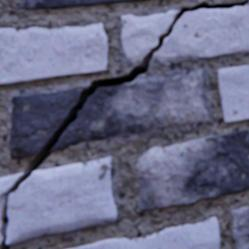brick: (136, 129, 248, 209), (0, 23, 108, 83), (66, 216, 220, 248), (218, 65, 248, 121), (17, 0, 147, 9), (232, 206, 248, 248)
broken_brick: (51, 70, 208, 151), (7, 156, 117, 243), (11, 86, 89, 157), (151, 6, 248, 60), (122, 11, 177, 62), (0, 172, 24, 211)
crack: (0, 0, 248, 248)
